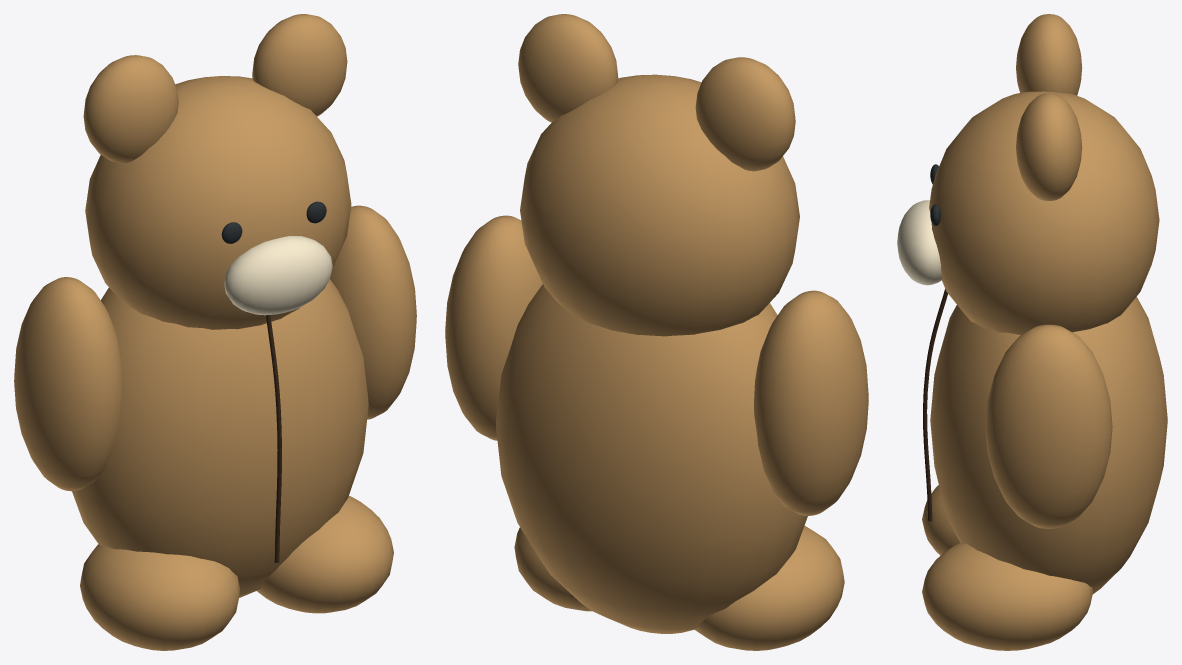
The model's file is sku_v24_plush_bear.glb.
3 views of the same model, side by side, from view 1: azimuth 30°, elevation 25°; view 2: azimuth 150°, elevation 25°; view 3: azimuth 270°, elevation 25° (orthographic). The views are drawn at different scales.
Visible parts, largest first — view 1: sku_v24_plush_bear_Toy_ochre, sku_v24_plush_bear_V24_cream, sku_v24_plush_bear_CC0_Smoked_walnut, sku_v24_plush_bear_V24_satin_black; view 2: sku_v24_plush_bear_Toy_ochre; view 3: sku_v24_plush_bear_Toy_ochre, sku_v24_plush_bear_V24_cream, sku_v24_plush_bear_CC0_Smoked_walnut.
Part boxes in pixels (box(x1,y1,x2,y2)): sku_v24_plush_bear_Toy_ochre: box(14, 14, 416, 650); sku_v24_plush_bear_V24_cream: box(224, 236, 332, 315); sku_v24_plush_bear_CC0_Smoked_walnut: box(266, 315, 281, 562); sku_v24_plush_bear_V24_satin_black: box(221, 201, 326, 243); sku_v24_plush_bear_Toy_ochre: box(445, 14, 868, 650); sku_v24_plush_bear_Toy_ochre: box(922, 14, 1167, 650); sku_v24_plush_bear_V24_cream: box(897, 200, 942, 285); sku_v24_plush_bear_CC0_Smoked_walnut: box(923, 289, 947, 521).
Bounding box in the file's own units: 0.154 × 0.219 × 0.098.
4 materials, 1 textured.
